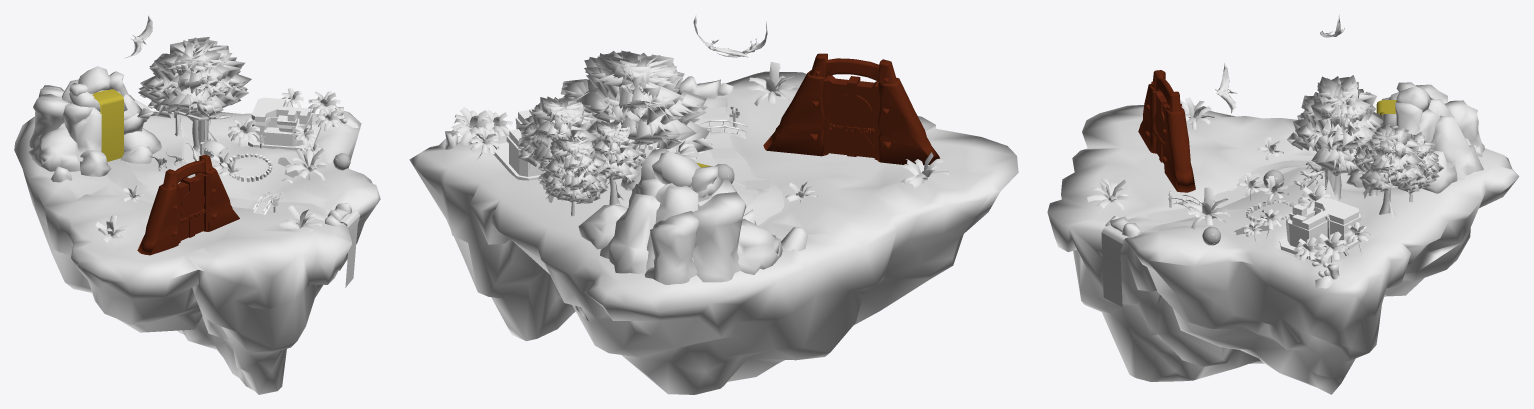
The model's file is Jurrassic World Mobile.fbx.
3 views of the same model, side by side, from view 1: azimuth 30°, elevation 25°; view 2: azimuth 150°, elevation 25°; view 3: azimuth 270°, elevation 25° (orthographic). The views are drawn at different scales.
Visible parts, largest first — view 1: Chão Low, beech_01_LOD0.009, Rock2E_LP:polySurface1.002, horns.FINAL.001, Plane002, Plane003, SM_Plant_Lillypad_Large_01_112.003, Plane004, beech_01_LOD0.002, beech_01_LOD0.003, ptero; view 2: Chão Low, beech_01_LOD0.009, Rock2E_LP:polySurface1.002, horns.FINAL.001, Plane003, beech_01_LOD0.002, Vitoria regia, beech_01_LOD0.003; view 3: Chão Low, beech_01_LOD0.009, horns.FINAL.001, Rock2E_LP:polySurface1.002, Plane003, Plane004, beech_01_LOD0.002, SM_Plant_Lillypad_Large_01_112.003, beech_01_LOD0.003.
Part boxes in pixels (bbox=[...]): Chão Low: bbox=[14, 111, 380, 394]; beech_01_LOD0.009: bbox=[137, 37, 341, 183]; Rock2E_LP:polySurface1.002: bbox=[29, 66, 358, 226]; horns.FINAL.001: bbox=[137, 97, 321, 255]; Plane002: bbox=[92, 89, 123, 161]; Plane003: bbox=[106, 158, 331, 220]; SM_Plant_Lillypad_Large_01_112.003: bbox=[177, 108, 346, 212]; Plane004: bbox=[337, 210, 359, 287]; beech_01_LOD0.002: bbox=[279, 205, 321, 231]; beech_01_LOD0.003: bbox=[95, 215, 128, 242]; ptero: bbox=[126, 14, 152, 57]; Chão Low: bbox=[409, 71, 1018, 394]; beech_01_LOD0.009: bbox=[450, 50, 713, 216]; Rock2E_LP:polySurface1.002: bbox=[438, 76, 807, 284]; horns.FINAL.001: bbox=[489, 53, 939, 180]; Plane003: bbox=[695, 98, 784, 225]; beech_01_LOD0.002: bbox=[747, 62, 794, 105]; Vitoria regia: bbox=[702, 107, 770, 189]; beech_01_LOD0.003: bbox=[901, 152, 948, 188]; Chão Low: bbox=[1047, 105, 1519, 394]; beech_01_LOD0.009: bbox=[1186, 75, 1443, 262]; horns.FINAL.001: bbox=[1138, 70, 1361, 263]; Rock2E_LP:polySurface1.002: bbox=[1105, 82, 1484, 288]; Plane003: bbox=[1128, 160, 1320, 232]; Plane004: bbox=[1101, 225, 1128, 306]; beech_01_LOD0.002: bbox=[1087, 178, 1130, 210]; SM_Plant_Lillypad_Large_01_112.003: bbox=[1169, 169, 1396, 277]; beech_01_LOD0.003: bbox=[1180, 97, 1214, 129].
Size of what is drawn, in the model's own units: 44302 by 37364 by 46246.
